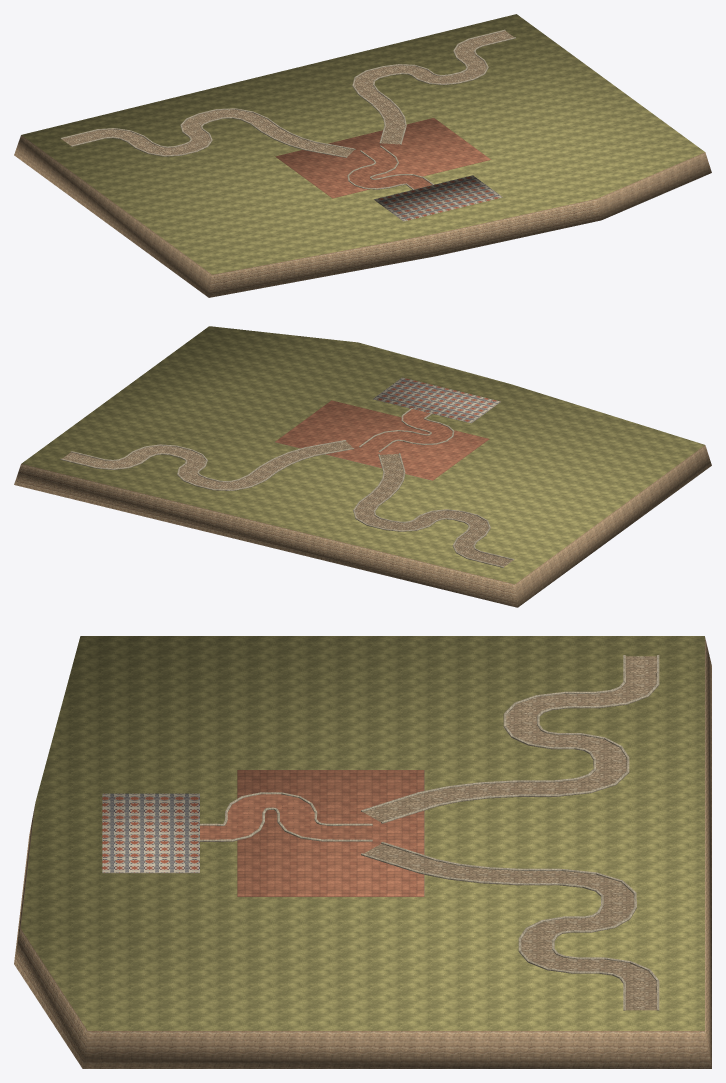
Rendered from 04_LabiryntKnossos_teren.glb.
3 views of the same model, one above another, from view 1: azimuth 30°, elevation 25°; view 2: azimuth 150°, elevation 25°; view 3: azimuth 270°, elevation 25° (orthographic). The views are drawn at different scales.
Visible parts, largest first — view 1: land, court, path_0.003, path_1, throne_floor, path_2; view 2: land, court, path_0.003, path_1, throne_floor, path_2; view 3: land, court, path_0.003, path_1, throne_floor, path_2.
Part boxes in pixels (x1,y1,x2,y2): land: (14,14,711,297); court: (275,118,490,198); path_0.003: (62,109,353,156); path_1: (354,31,513,144); throne_floor: (374,175,502,221); path_2: (349,146,431,189); land: (14,326,711,607); court: (274,400,489,480); path_0.003: (355,454,512,566); path_1: (62,441,352,489); throne_floor: (373,377,500,423); path_2: (361,409,452,451); land: (14,636,711,1068); court: (237,770,424,896); path_0.003: (363,656,656,821); path_1: (364,844,656,1010); throne_floor: (102,793,199,873); path_2: (200,794,371,839).
Size of what is drawn, in the model's own units: 255 by 10.44 by 187.
Materials: 6 (6 with a texture image).
